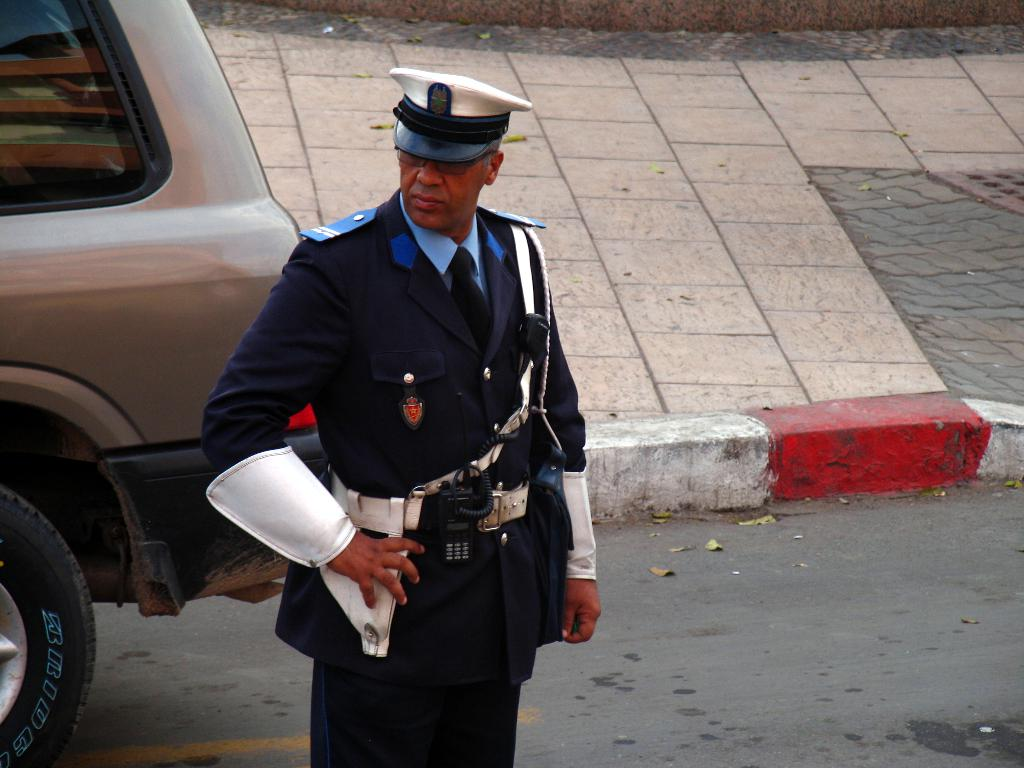Car: (0, 0, 326, 767)
